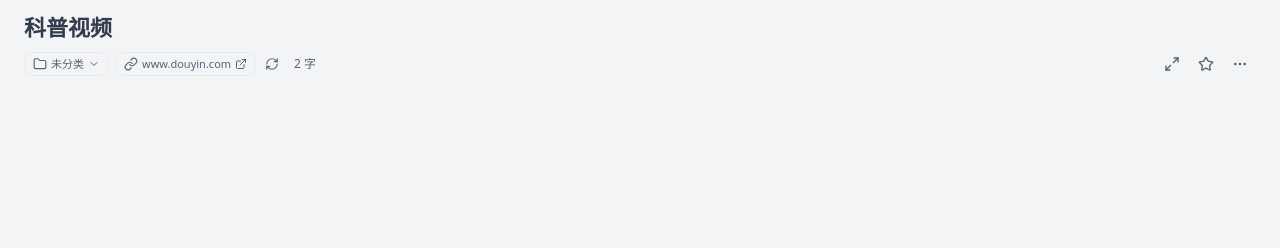
采集失败保留原因和可复制详情，重试空结果不冒充成功
Click the button named "更多操作".
click(1240, 64)  # box [1224,48,1256,80]
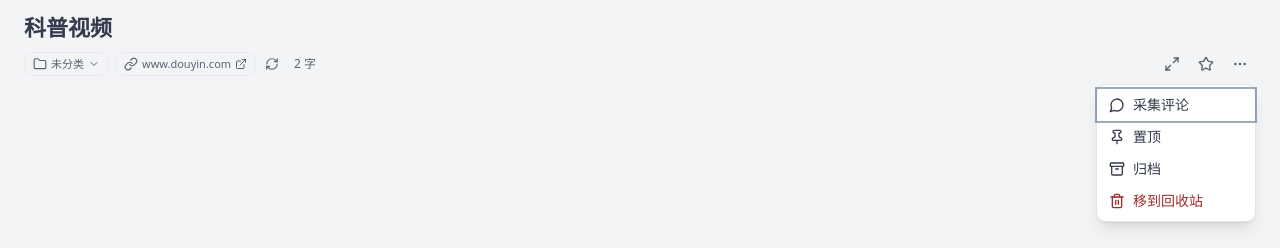
Click the menu item "采集评论".
click(1176, 105)  # box [1097,89,1255,121]
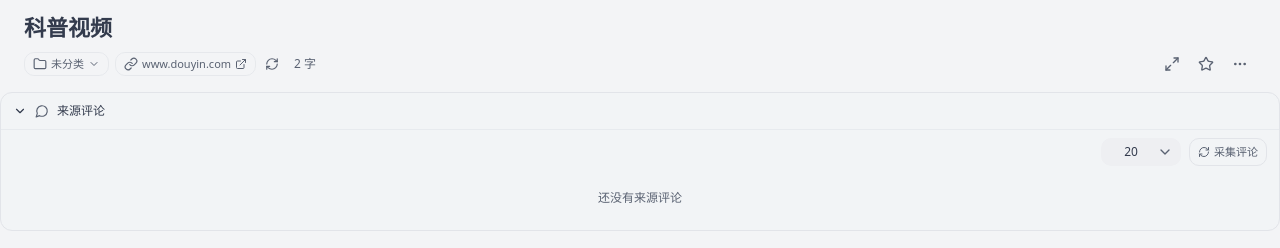
Click the button "采集评论".
click(1228, 152)  # box [1189,138,1267,166]
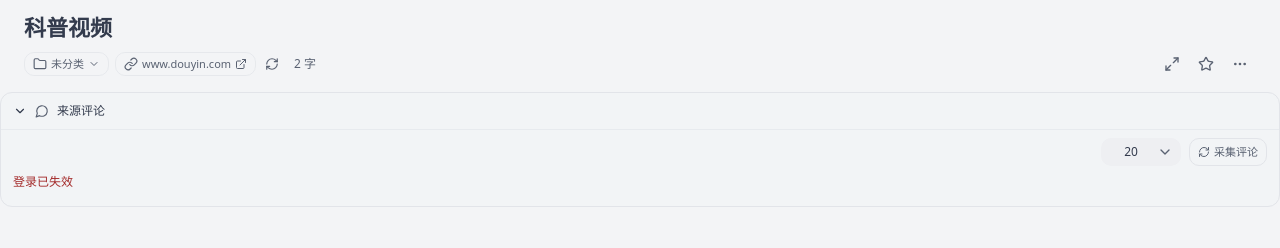
Expected: the text "登录已失效" is shown, [13,173,73,190]
Expected: the text "还没有来源评论" is gone
Click the button "采集评论".
click(1228, 152)  # box [1189,138,1267,166]
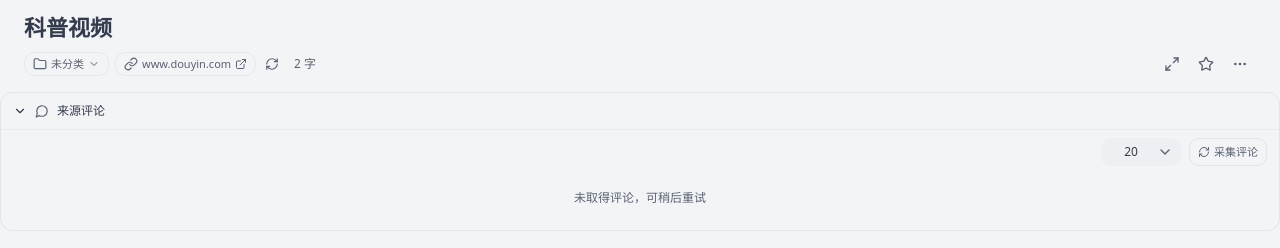
Expected: the text "未取得评论，可稍后重试" is shown, [574,189,706,206]
